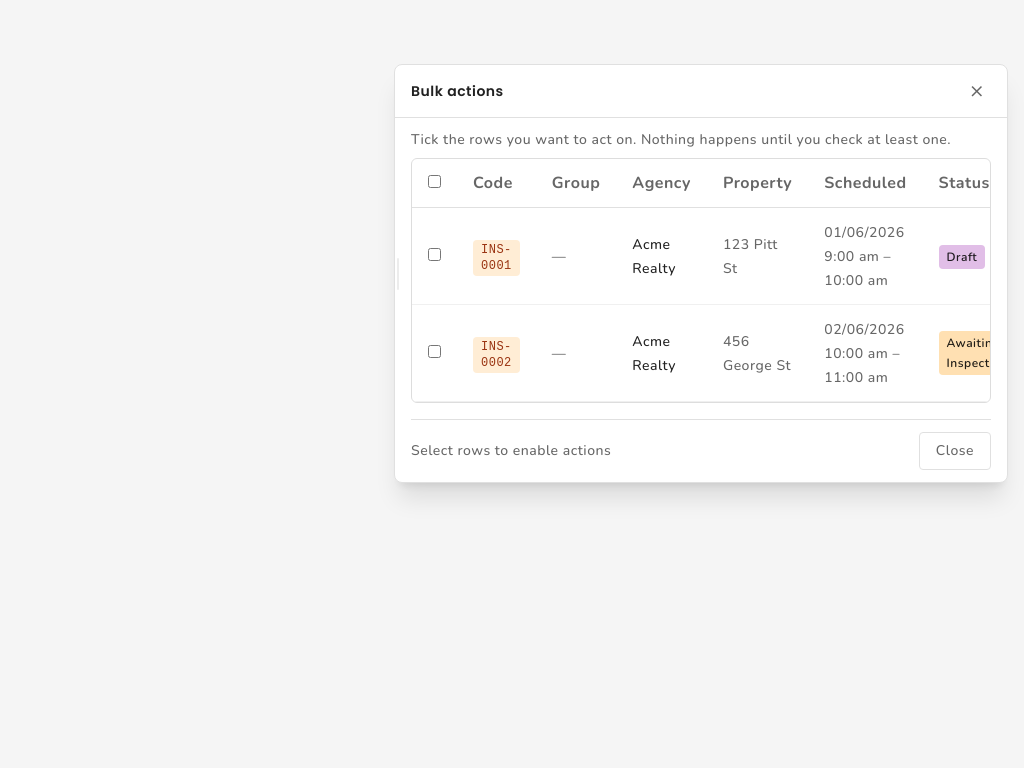
Test: MapBulkActionModal › offers Reschedule and Return to pool as distinct actions
Click the checkbox named "Select INS-0001": (434,254) [428, 248, 441, 261]
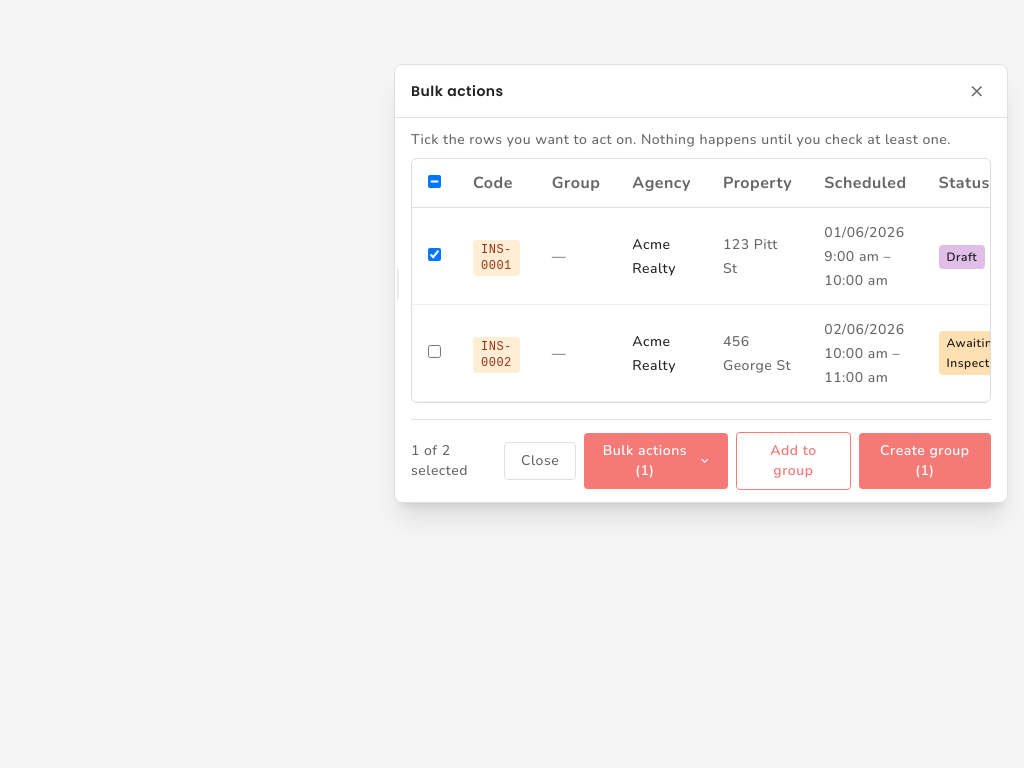
Click the button with test id "bulk-actions-toggle": (656,461) [584, 433, 728, 489]
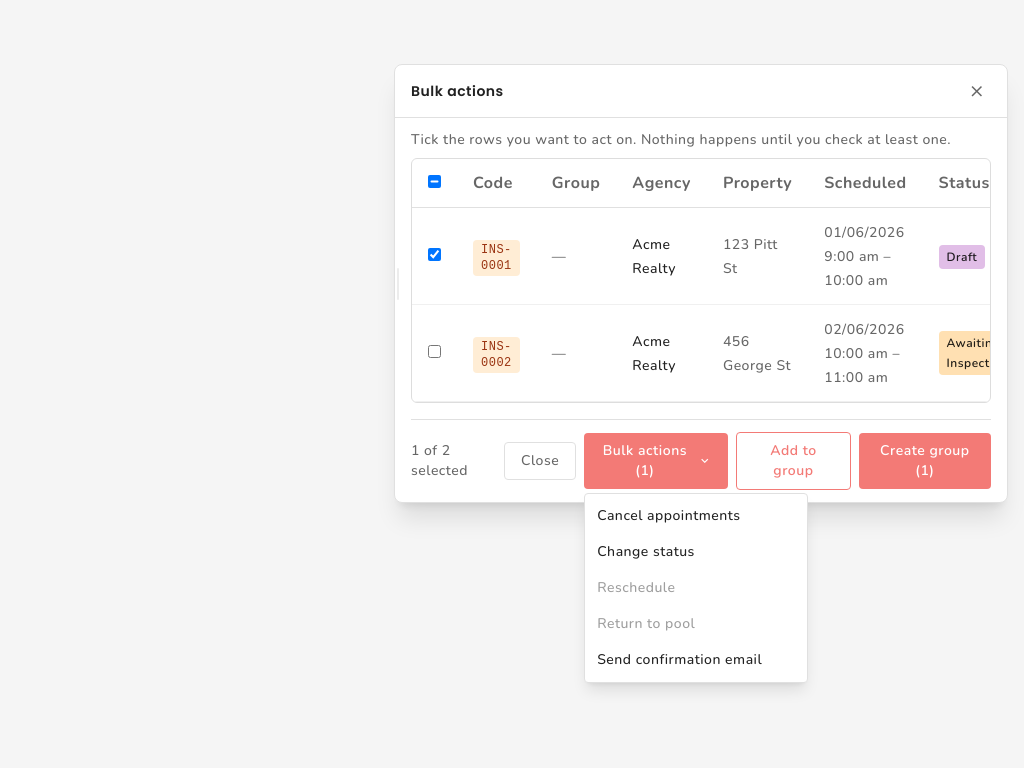
Expected: the menu item with test id "bulk-action-reschedule" reads "Reschedule", [585, 570, 807, 606]
Expected: the menu item with test id "bulk-action-return_to_pool" reads "Return to pool", [585, 606, 807, 642]
